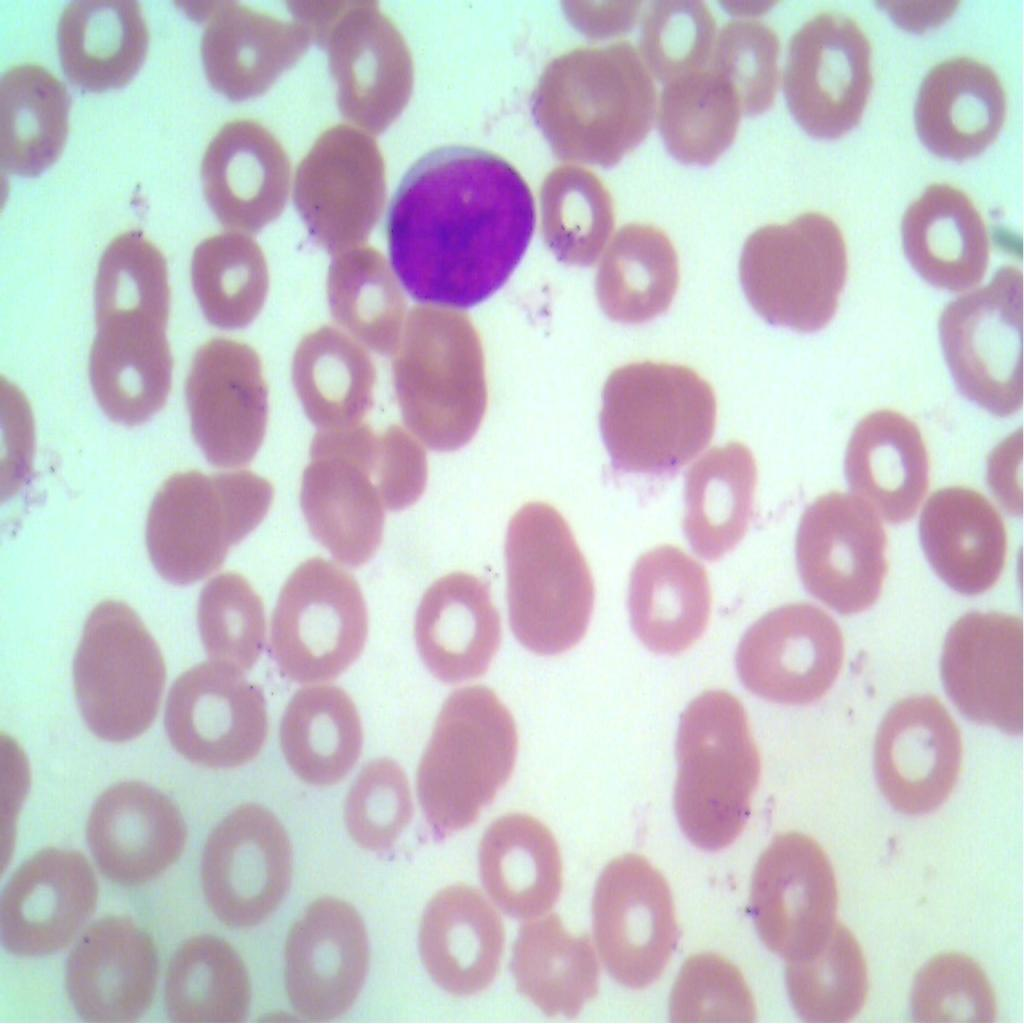Eritrosit: (588, 346, 718, 474), (501, 501, 608, 655), (602, 525, 723, 661), (901, 35, 1013, 174), (413, 690, 524, 829), (584, 840, 684, 989), (320, 5, 426, 144), (286, 122, 396, 255), (928, 264, 1023, 414), (402, 558, 506, 691), (735, 591, 853, 708), (776, 11, 879, 145), (793, 484, 899, 614), (728, 210, 836, 337), (158, 652, 274, 770), (196, 798, 298, 930), (264, 557, 373, 678), (895, 172, 994, 305), (398, 307, 489, 447), (744, 826, 831, 972), (69, 618, 168, 746), (870, 684, 961, 820), (196, 112, 295, 237), (182, 332, 279, 458), (0, 842, 103, 956), (278, 669, 364, 804), (78, 781, 193, 881), (63, 909, 163, 1023), (651, 65, 746, 184), (841, 402, 933, 524), (583, 218, 688, 324), (283, 900, 373, 1023), (472, 802, 570, 914), (936, 592, 1023, 718), (0, 60, 90, 181), (416, 872, 501, 1000), (52, 0, 157, 100), (786, 908, 876, 1023), (86, 314, 176, 428), (918, 482, 1003, 602), (144, 470, 230, 588), (178, 227, 272, 334), (306, 445, 382, 574), (154, 924, 252, 1023), (79, 230, 169, 337), (678, 442, 763, 554), (313, 241, 401, 348), (664, 755, 750, 861), (190, 14, 306, 92), (542, 47, 622, 158), (672, 684, 758, 787), (520, 914, 598, 1023), (533, 172, 621, 264), (294, 330, 375, 428), (623, 0, 718, 82), (334, 760, 415, 856), (713, 17, 778, 125), (198, 568, 264, 662), (369, 421, 428, 509)
Limfoblast: (388, 131, 541, 312)
